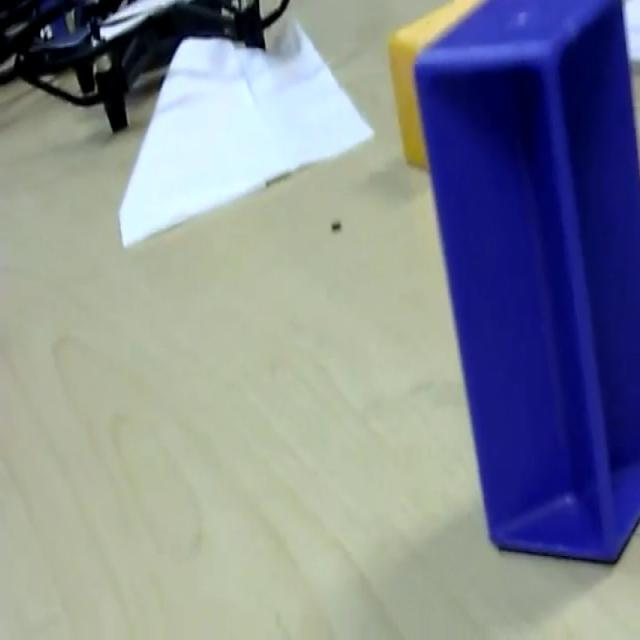blue_block: (412, 0, 638, 564)
yellow_block: (386, 0, 482, 168)
